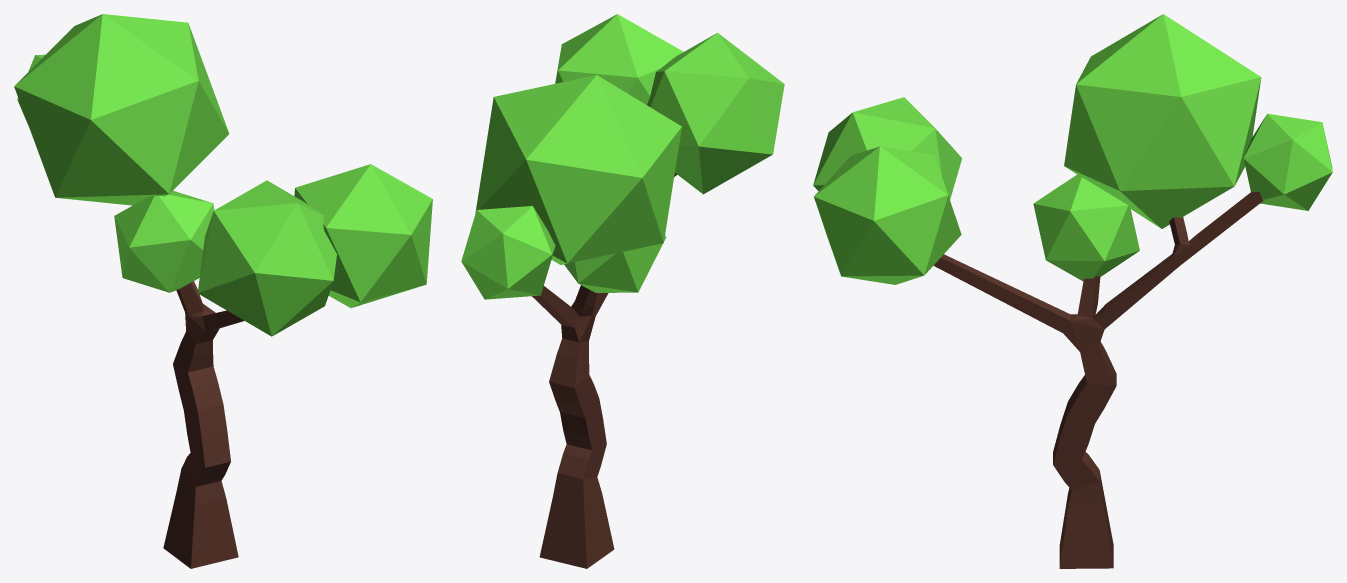
File: Pohon-LowPoly1.fbx
3 views of the same model, side by side, from view 1: azimuth 30°, elevation 25°; view 2: azimuth 150°, elevation 25°; view 3: azimuth 270°, elevation 25° (orthographic).
Visible parts, largest first — view 1: Icosphere.003, Icosphere.001, Icosphere.002, Cube, Icosphere; view 2: Icosphere.003, Icosphere.001, Cube, Icosphere.004, Icosphere.002, Icosphere; view 3: Icosphere.003, Cube, Icosphere.002, Icosphere, Icosphere.004, Icosphere.001.
Boxes of the visible parts, box(x1,y1,x2,y2) form: Icosphere.003: box(14, 14, 229, 205); Icosphere.001: box(197, 180, 336, 336); Icosphere.002: box(294, 164, 432, 307); Cube: box(163, 281, 244, 568); Icosphere: box(114, 190, 214, 292); Icosphere.003: box(475, 75, 681, 264); Icosphere.001: box(647, 32, 784, 194); Cube: box(532, 173, 677, 568); Icosphere.004: box(461, 206, 555, 299); Icosphere.002: box(555, 14, 683, 104); Icosphere: box(564, 235, 666, 292); Icosphere.003: box(1064, 14, 1261, 228); Cube: box(933, 192, 1263, 568); Icosphere.002: box(814, 146, 961, 284); Icosphere: box(1033, 174, 1139, 281); Icosphere.004: box(1243, 113, 1332, 210); Icosphere.001: box(813, 97, 961, 199).
Bounding box in the file's own units: 484 × 971 × 888.
